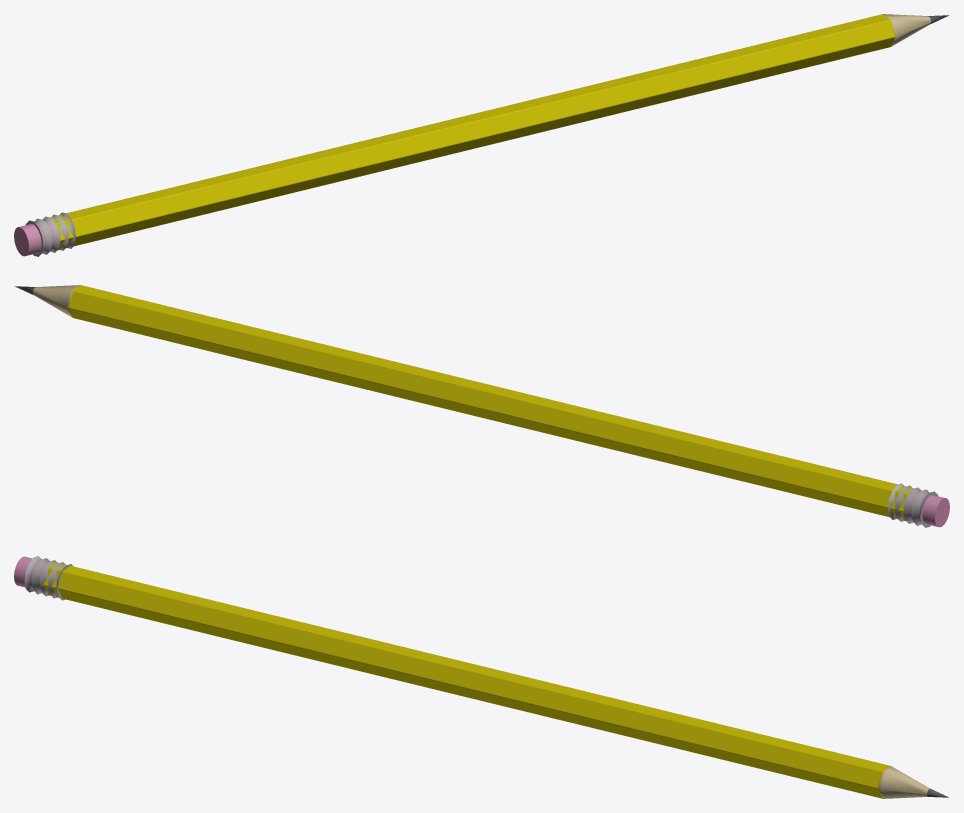
File: pencil.fbx
3 views of the same model, one above another, from view 1: azimuth 30°, elevation 25°; view 2: azimuth 150°, elevation 25°; view 3: azimuth 330°, elevation 25° (orthographic).
Parts seen in each view (by area): view 1: pCube1, pCylinder1, pCylinder2; view 2: pCube1, pCylinder1, pCylinder2; view 3: pCube1, pCylinder1.
Boxes of the visible parts, <box> form: pCube1: <box>50,14,948,250</box>; pCylinder1: <box>25,212,75,256</box>; pCylinder2: <box>14,220,54,256</box>; pCube1: <box>15,285,913,521</box>; pCylinder1: <box>888,483,938,527</box>; pCylinder2: <box>909,491,949,527</box>; pCube1: <box>43,562,948,798</box>; pCylinder1: <box>24,556,72,600</box>.
Bounding box in the file's own units: 8.88 × 0.3127 × 0.3127.
